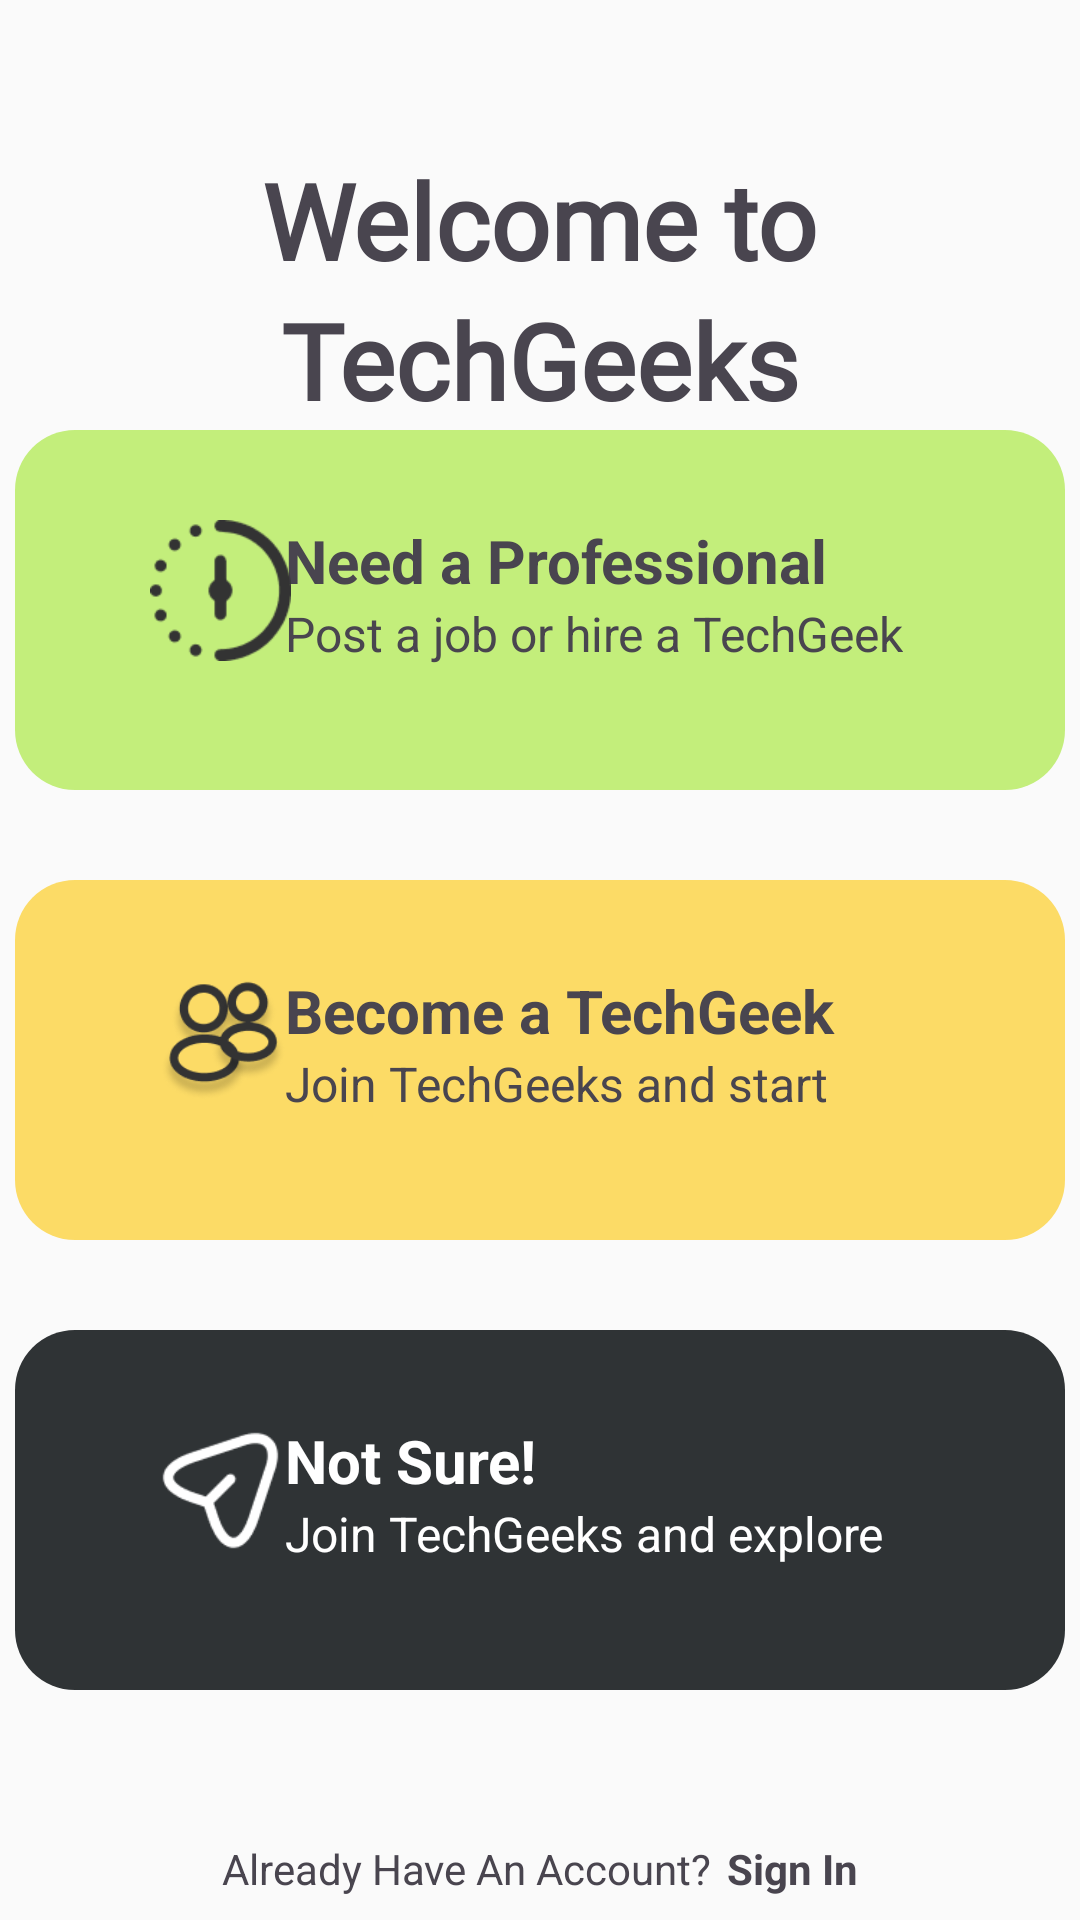

Where icons sit on this 1080*1920 app screen, as [x1,y1,x2,y2]:
fly: [162,1432,279,1549]
pending: [150,520,291,661]
